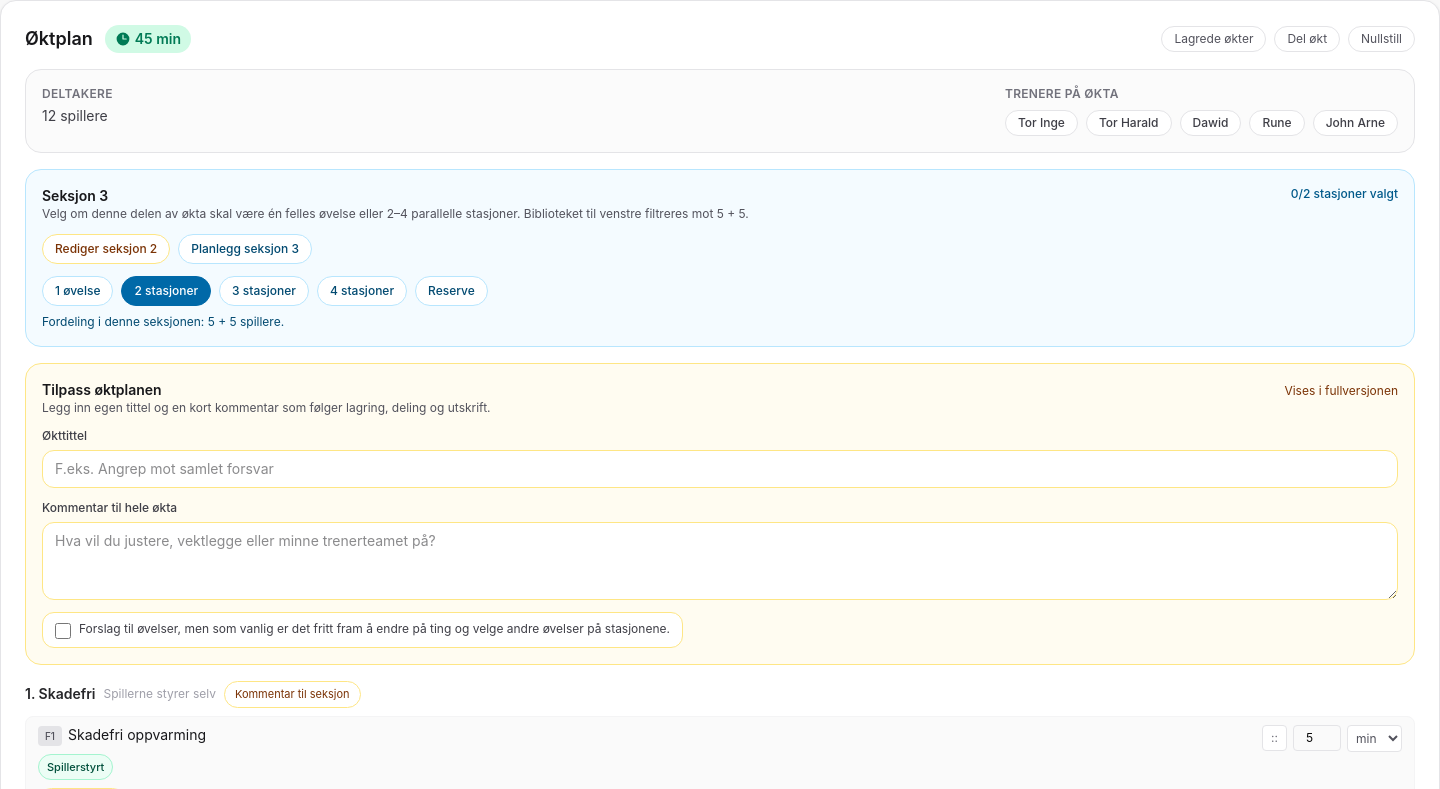
SessionTimeline sharing › keeps the next section active when station count increases after a completed station section
This screenshot has width=1440, height=789.
Expected: the heading "Seksjon 3" is shown, top-left (42, 187), bottom-right (108, 204)
Click the button "3 stasjoner" at (264, 291), box top-left (219, 276), bottom-right (309, 306)
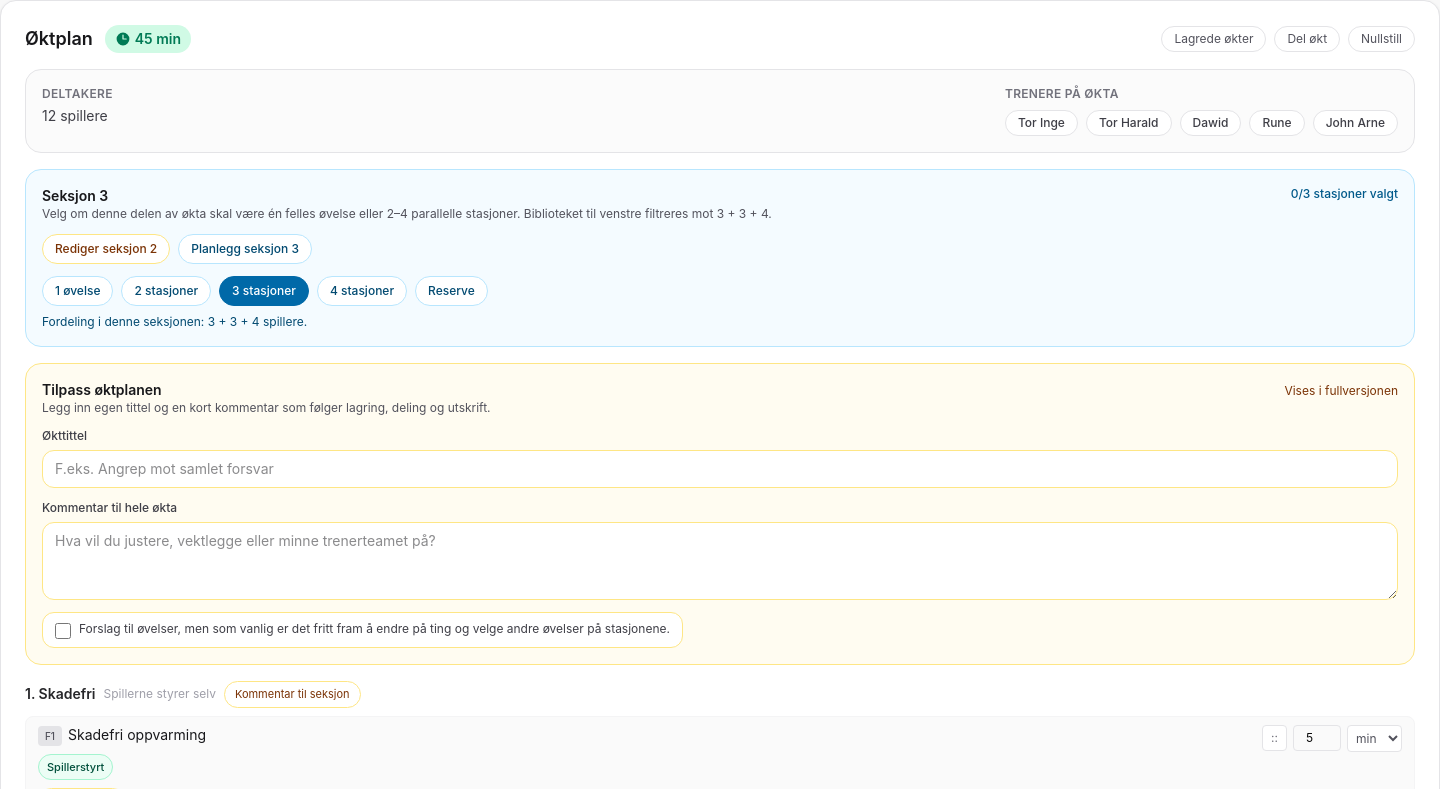
Expected: the heading "Seksjon 3" is shown, top-left (42, 187), bottom-right (108, 204)
Expected: the text "0/3 stasjoner valgt" is shown, top-left (1291, 186), bottom-right (1398, 202)
Expected: the text "Fordeling i denne seksjonen: 3 + 3 + 4 spillere." is shown, top-left (42, 314), bottom-right (307, 329)
